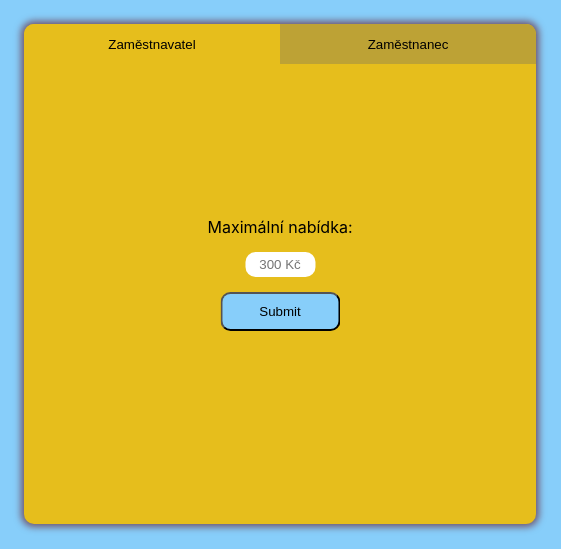
Scenario: Integration tests › PopUp component is rendered after both inputs
The width and height of the screenshot is (561, 549).
Type "200" into the number field at (280, 264), box [245,252,315,277]
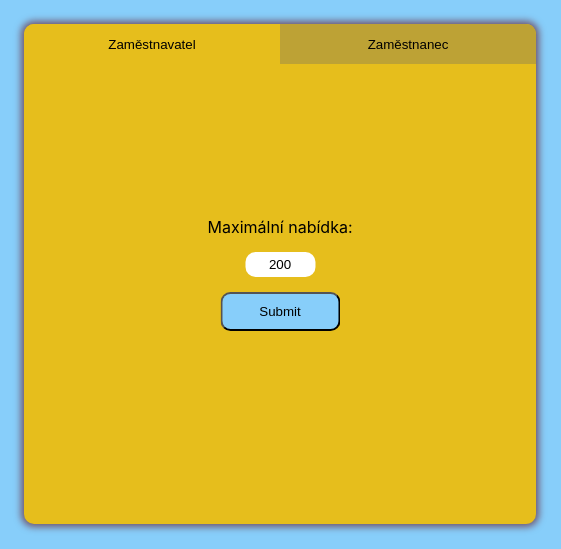
Click the button "Submit" at (280, 312), box [220,292,340,331]
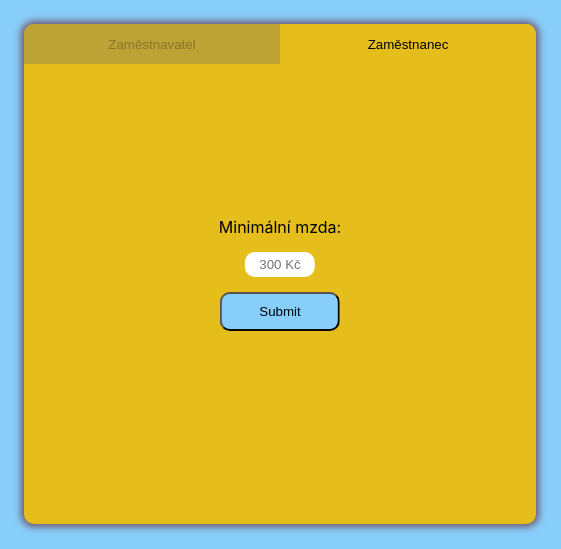
Type "200" into the number field at (280, 264), box [245,252,315,277]
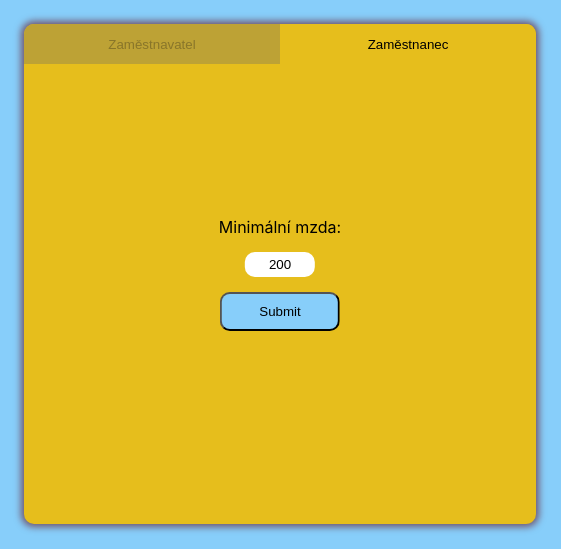
Click the button "Submit" at (280, 312), box [220,292,340,331]
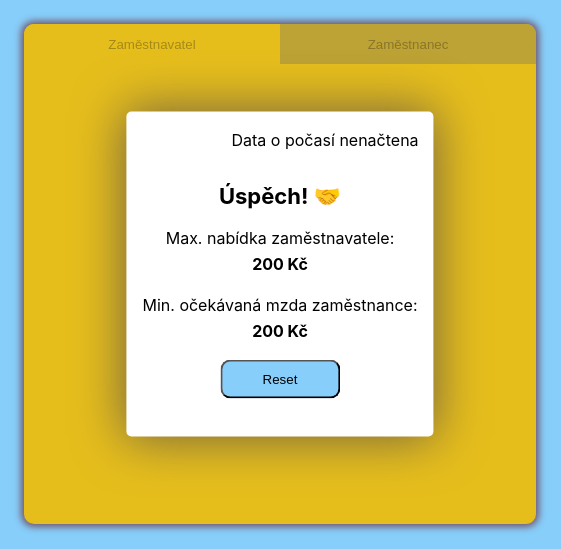
Now the button "Reset" is shown, box [220,360,340,399]
